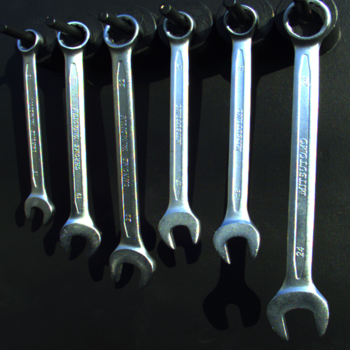bottom: (263, 283, 331, 343), (106, 241, 155, 291), (210, 218, 262, 265), (156, 205, 202, 252), (58, 216, 102, 260), (21, 190, 55, 227)
top: (279, 0, 334, 44), (100, 11, 142, 52), (219, 3, 261, 41), (54, 18, 93, 55), (158, 9, 197, 44), (11, 25, 46, 56)
